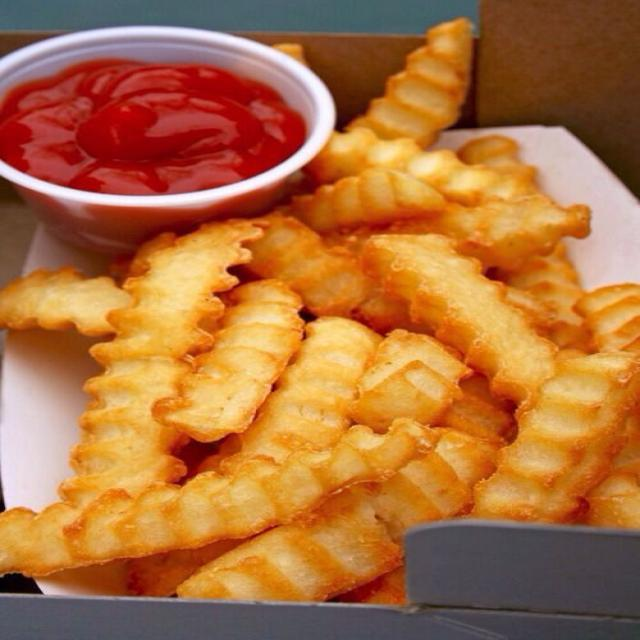potato fries: (0, 122, 639, 602), (364, 234, 555, 402), (473, 353, 639, 521), (153, 280, 303, 441), (347, 18, 472, 145), (292, 168, 445, 232), (0, 267, 130, 336)
